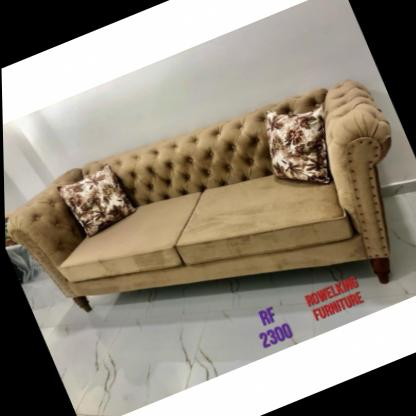Ceramic floor: (19, 192, 416, 416)
Sofa: (1, 51, 416, 405)
